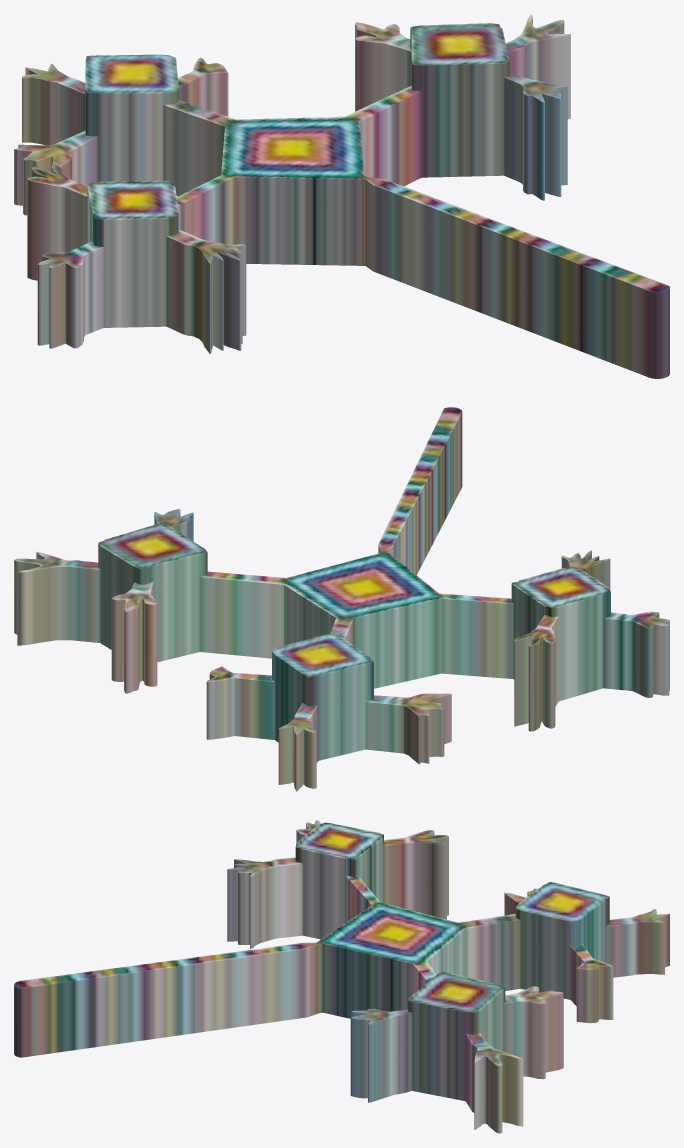
The model's file is muro el despertar del gigante 6.dae.
The picture shows the model from 3 angles, top to bottom: view 1: azimuth 30°, elevation 25°; view 2: azimuth 150°, elevation 25°; view 3: azimuth 270°, elevation 25°; orthographic projection. The views are drawn at different scales.
Parts seen in each view (by area): view 1: SketchUp (×2); view 2: SketchUp (×2); view 3: SketchUp (×2).
Part boxes in pixels (bbox=[...]): SketchUp (×2): bbox=[14, 14, 669, 378]; SketchUp (×2): bbox=[14, 407, 669, 791]; SketchUp (×2): bbox=[14, 820, 669, 1133].
Size of the model in its own units: 21.34 by 23.73 by 3.56.
2 materials, 1 textured.
